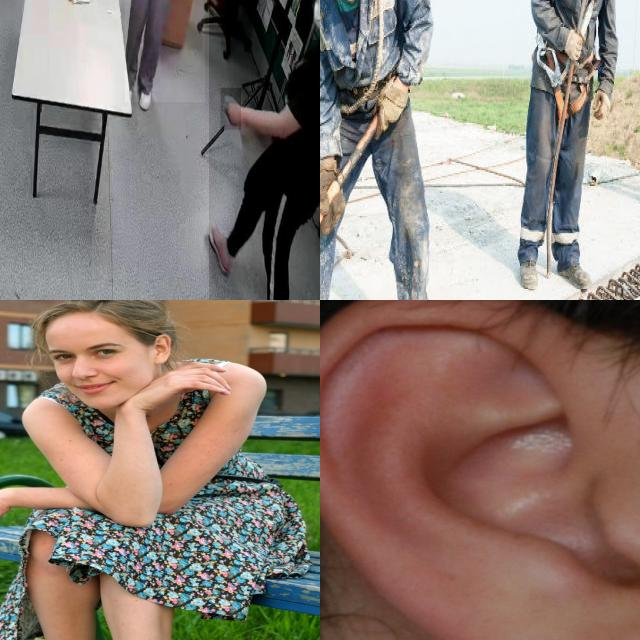No_Ear-Protection: (320, 300, 640, 640)
boots: (556, 242, 592, 300), (516, 251, 546, 297)
face_mask: (312, 0, 320, 40)
hand_glove: (364, 66, 414, 138), (320, 156, 349, 231), (557, 25, 588, 70), (586, 82, 614, 124)
hand_noglove: (220, 88, 242, 130)
person: (502, 0, 640, 294), (320, 0, 445, 300), (209, 0, 320, 300), (124, 0, 205, 102)
shoes: (208, 221, 240, 275), (135, 68, 155, 114)
